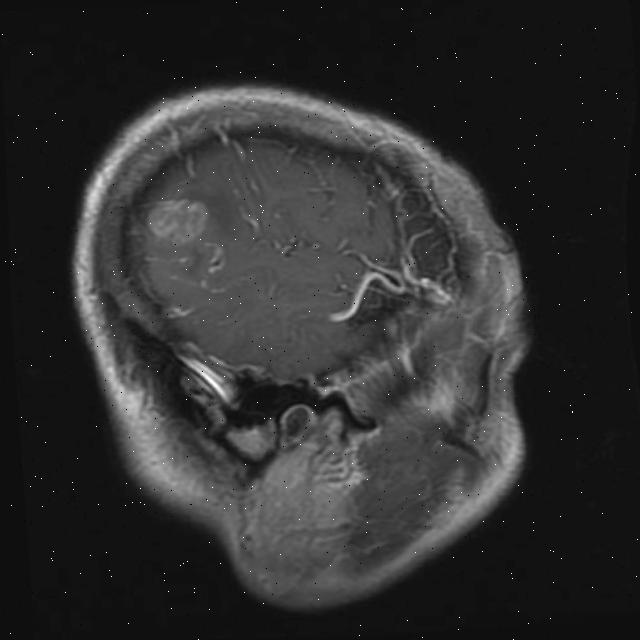Glioma: (140, 196, 210, 244)
